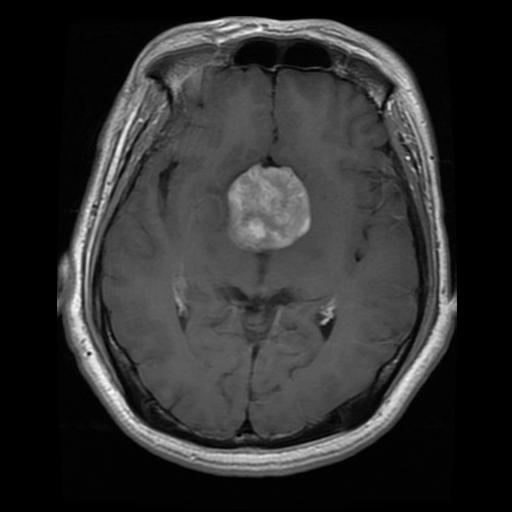Pituirity_tumour: (226, 161, 311, 248)
